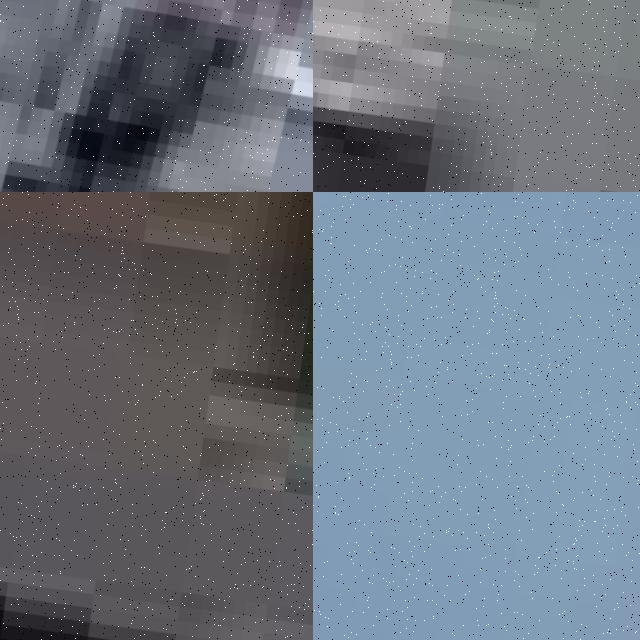drone: (0, 0, 313, 192)
